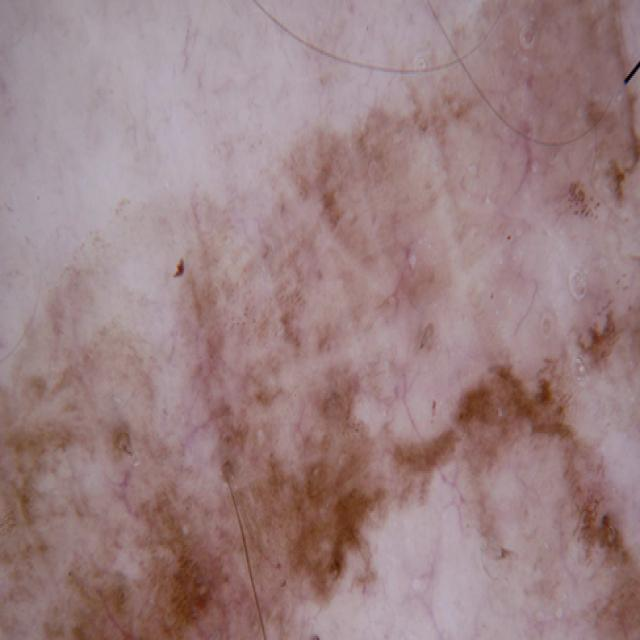Keratosis: (297, 106, 640, 640), (0, 359, 301, 640), (469, 4, 640, 103)
